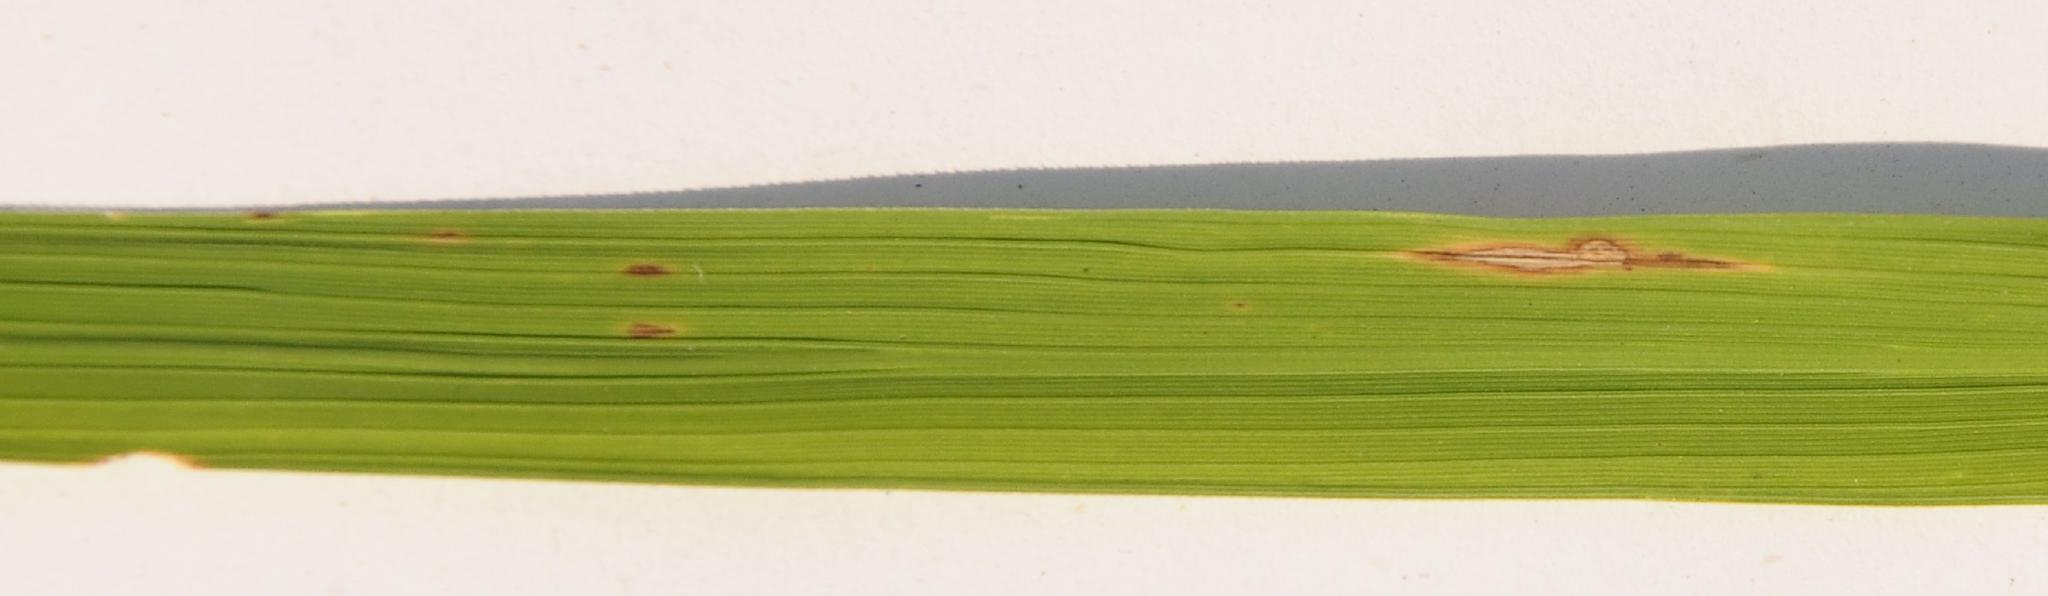0 BrownSpot: (1394, 196, 1860, 301), (579, 233, 735, 305), (596, 301, 701, 374)
